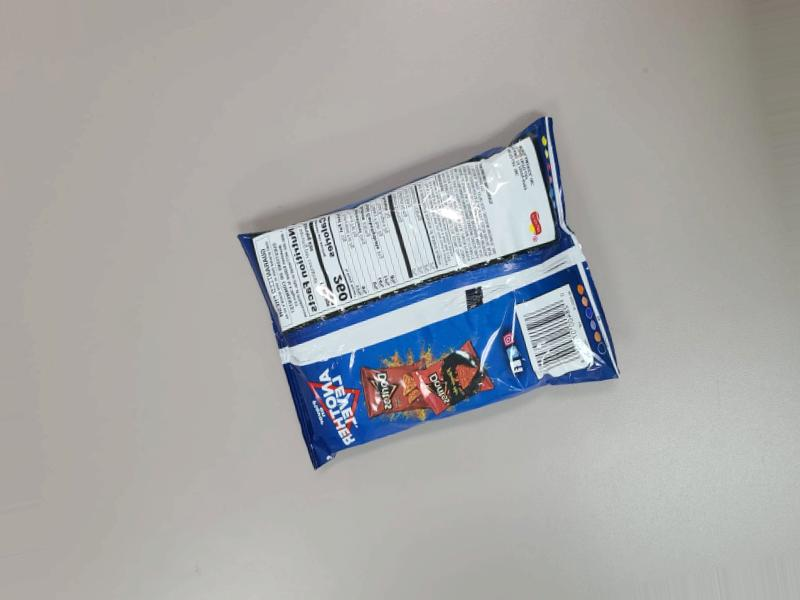doritos: (228, 93, 622, 487)
